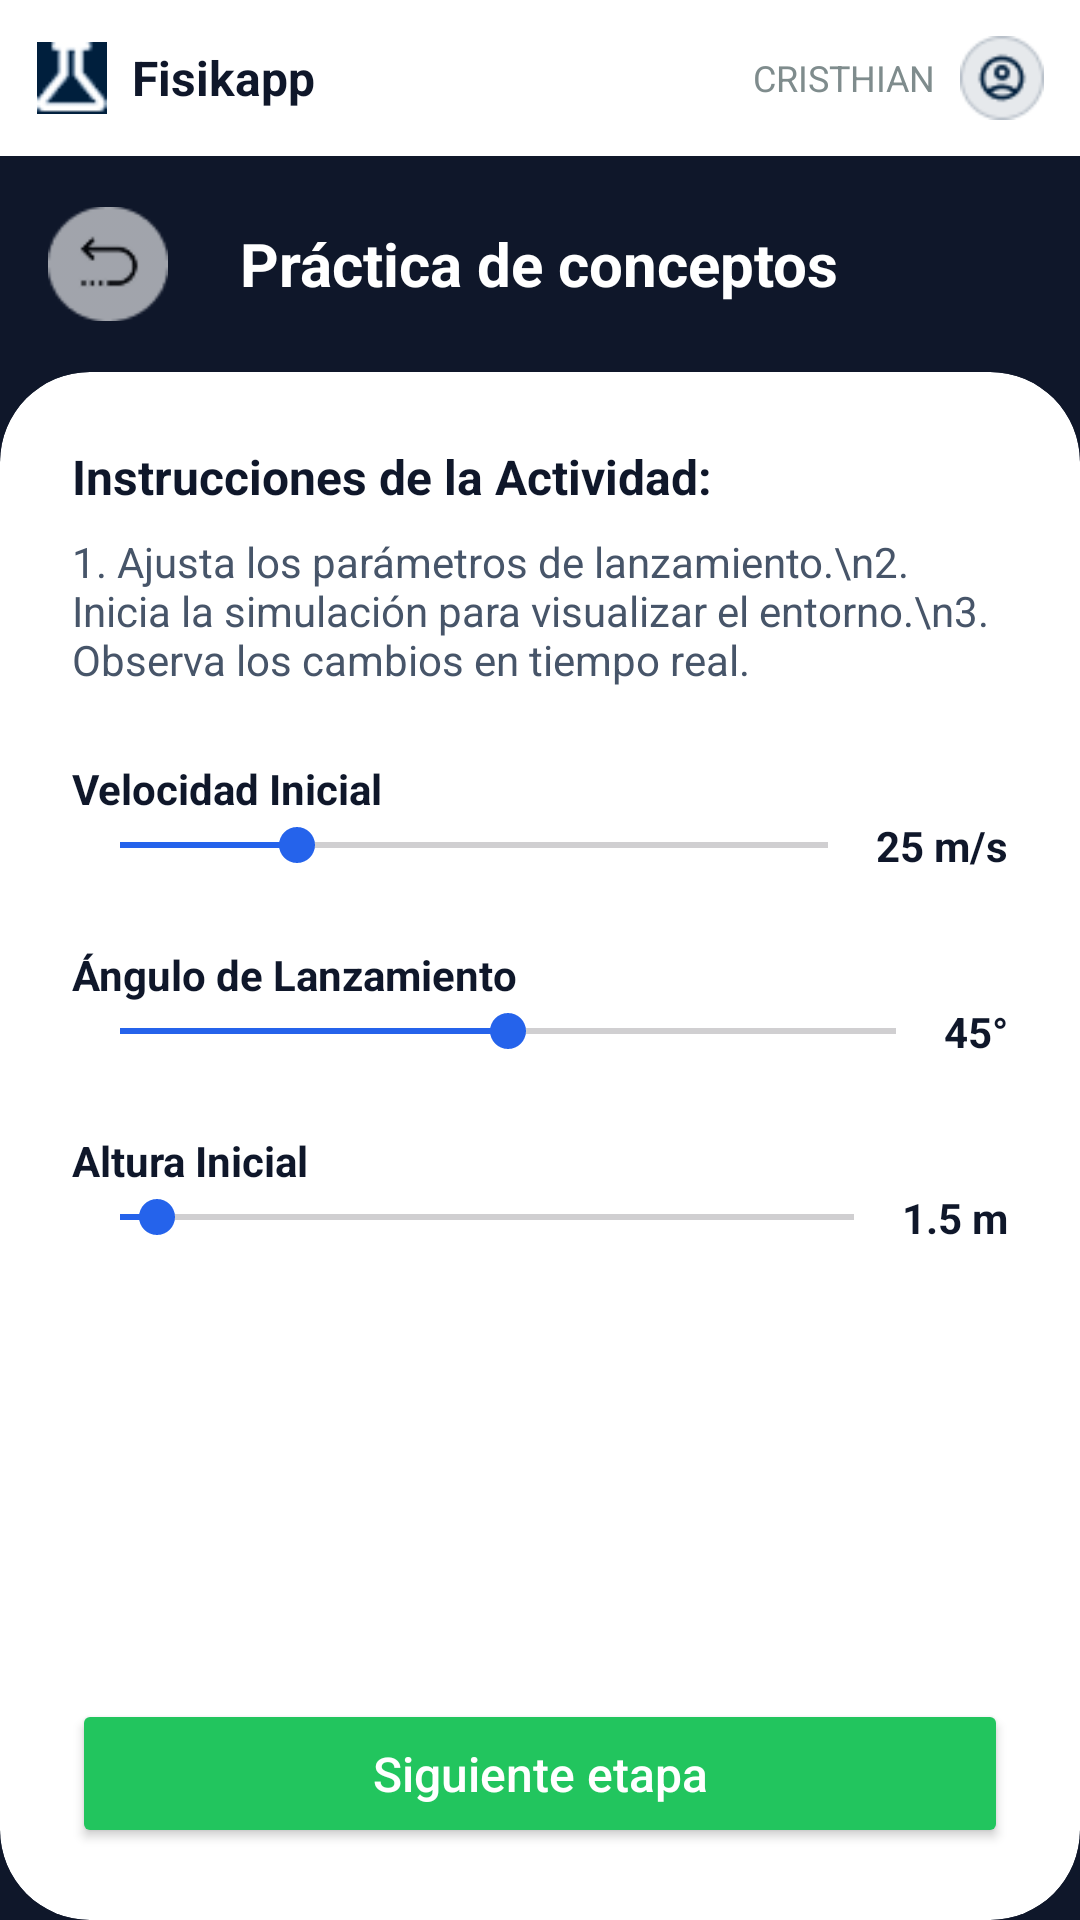

Icon bounding boxes for this 1080×1920 phone screenshot, format box(x1, y1, x2, y2):
Atrás: box(48, 207, 168, 321)
Perfil: box(960, 36, 1044, 120)
